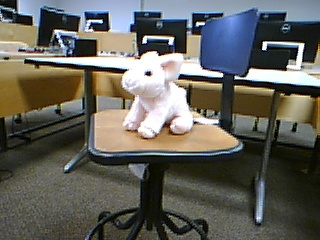piggy: (120, 50, 194, 139)
